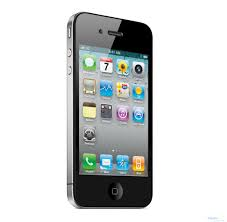iphone4: (63, 8, 155, 211)
